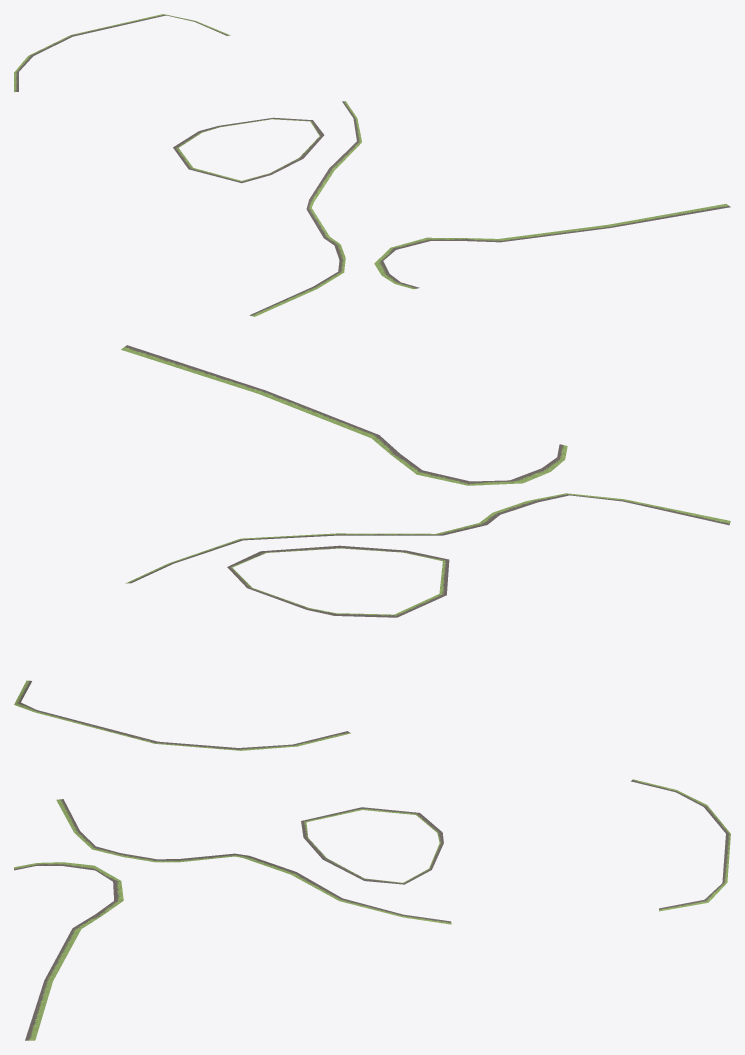
File: kd_stage_135c43_4_142_bounded.glb
3 renders of one model, top to bottom at view 1: azimuth 30°, elevation 25°; view 2: azimuth 150°, elevation 25°; view 3: azimuth 270°, elevation 25°, orthographic. The views are drawn at different scales.
Visible parts, largest first — view 1: kd_stage_135c43_4_142_bounded; view 2: kd_stage_135c43_4_142_bounded; view 3: kd_stage_135c43_4_142_bounded.
Part boxes in pixels (box(x1,y1,x2,y2)): kd_stage_135c43_4_142_bounded: box(14, 14, 730, 316); kd_stage_135c43_4_142_bounded: box(14, 345, 730, 750); kd_stage_135c43_4_142_bounded: box(14, 779, 730, 1040).
Bounding box in the file's own units: 5.95 × 0.354 × 7.2.
Materials: 1 (1 with a texture image).
